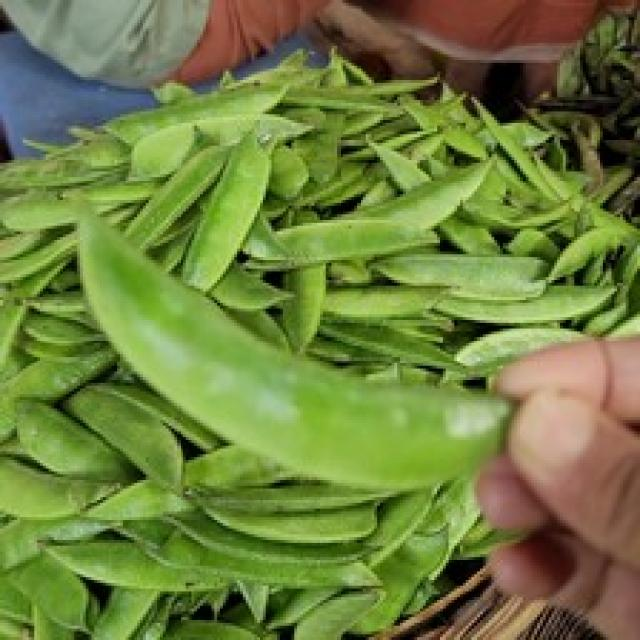Bean: (0, 40, 637, 637), (69, 194, 514, 492)
